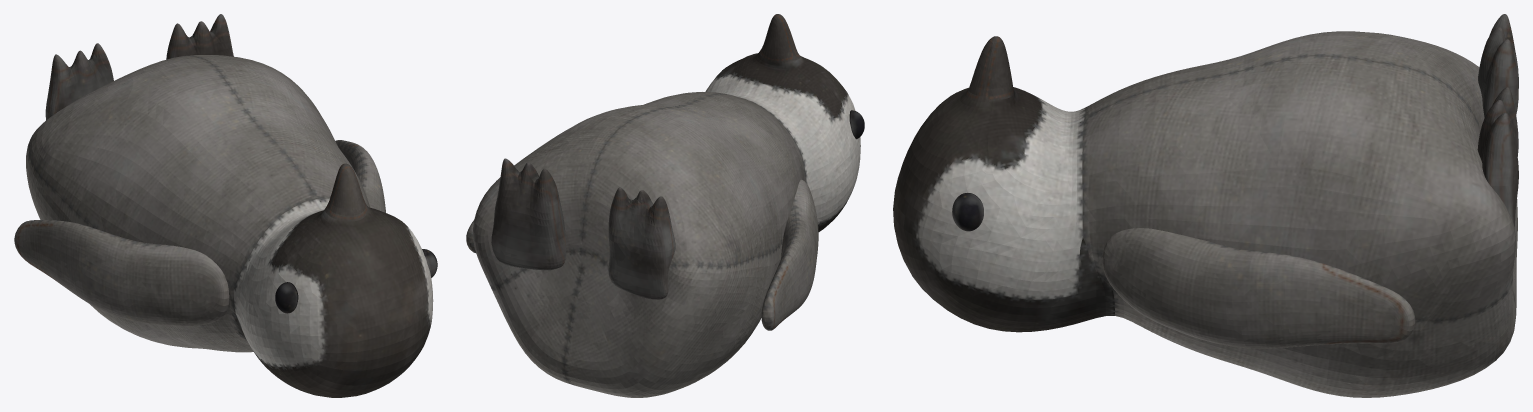
The model's file is toy_visual.obj.
3 renders of one model, left to right at view 1: azimuth 30°, elevation 25°; view 2: azimuth 150°, elevation 25°; view 3: azimuth 270°, elevation 25°, orthographic. The views are drawn at different scales.
Bounding box in the file's own units: 0.0763 × 0.0626 × 0.1033.
1 material, 1 textured.
